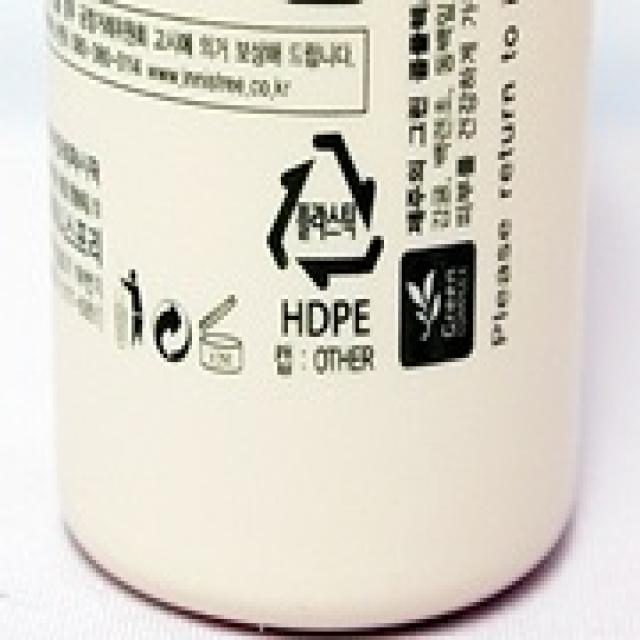Plastic: (266, 126, 392, 298)
